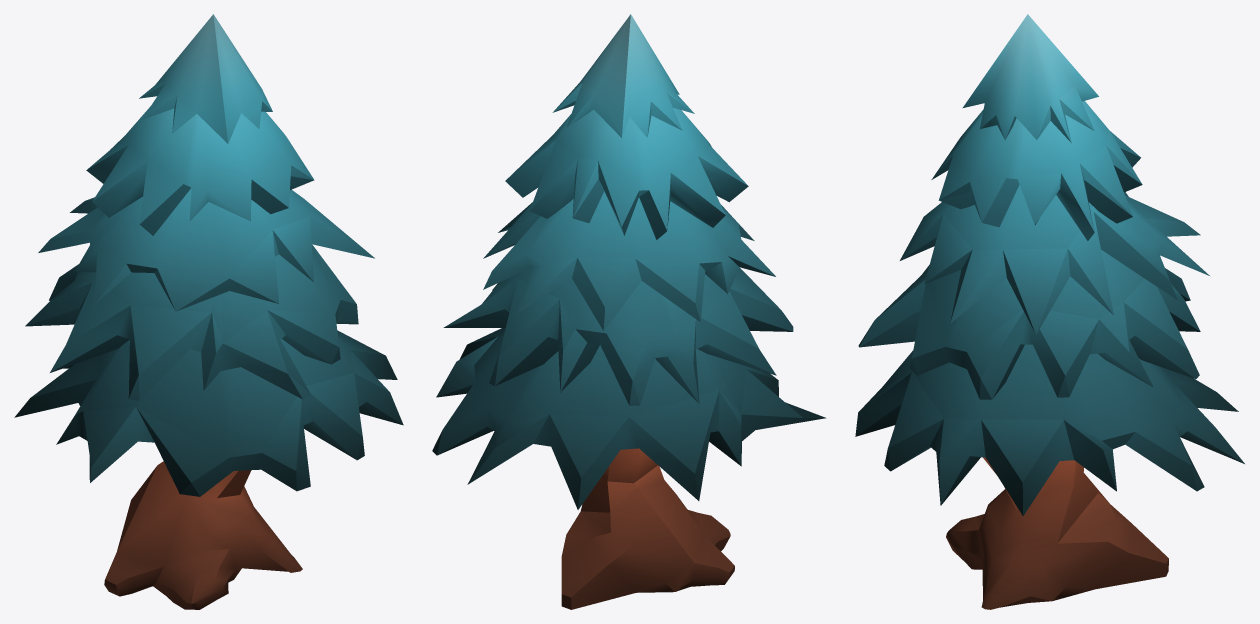
The model's file is Tree_C_1.fbx.
3 views of the same model, side by side, from view 1: azimuth 30°, elevation 25°; view 2: azimuth 150°, elevation 25°; view 3: azimuth 270°, elevation 25° (orthographic). The views are drawn at different scales.
Parts seen in each view (by area): view 1: Tree_C_1; view 2: Tree_C_1; view 3: Tree_C_1.
Part boxes in pixels (x1,y1,x2,y2): Tree_C_1: [14, 14, 403, 609]; Tree_C_1: [432, 14, 826, 609]; Tree_C_1: [855, 14, 1244, 609].
Bounding box in the file's own units: 130 × 201 × 126.
